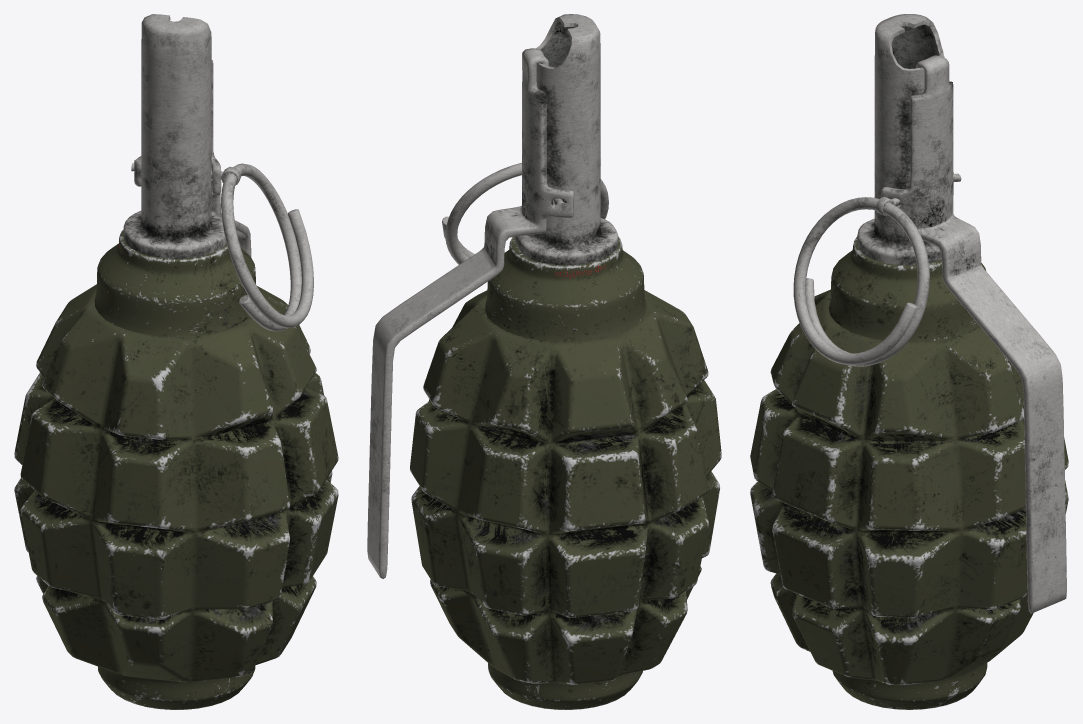
The picture shows the model from 3 angles, left to right: view 1: azimuth 30°, elevation 25°; view 2: azimuth 150°, elevation 25°; view 3: azimuth 270°, elevation 25°; orthographic projection.
Parts seen in each view (by area): view 1: frag_low, fuze_low, caps_low, pin_low, lever_low; view 2: frag_low, lever_low, caps_low, fuze_low, pin_low; view 3: frag_low, lever_low, caps_low, fuze_low, pin_low.
Boxes of the visible parts, <box> form: frag_low: <box>14,284,338,682</box>; fuze_low: <box>123,14,226,258</box>; caps_low: <box>94,229,255,709</box>; pin_low: <box>131,160,313,331</box>; lever_low: <box>134,60,251,257</box>; frag_low: <box>410,290,721,684</box>; lever_low: <box>367,48,573,578</box>; caps_low: <box>485,236,646,709</box>; fuze_low: <box>515,14,618,265</box>; pin_low: <box>442,162,608,264</box>; frag_low: <box>750,289,1068,685</box>; lever_low: <box>881,55,1066,613</box>; caps_low: <box>828,236,987,709</box>; fuze_low: <box>857,14,944,265</box>; pin_low: <box>793,172,961,366</box>.
Size of the model in its own units: 2.43 by 5.51 by 2.43.
Materials: 2 (2 with a texture image).
